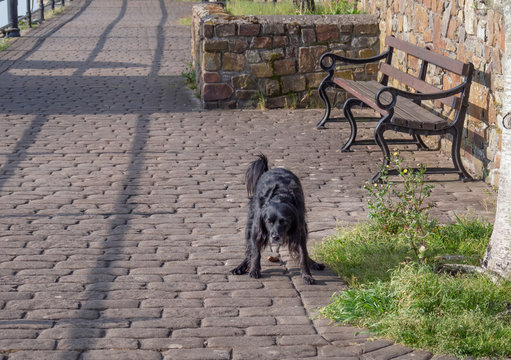dog_pooping: (227, 149, 331, 288)
